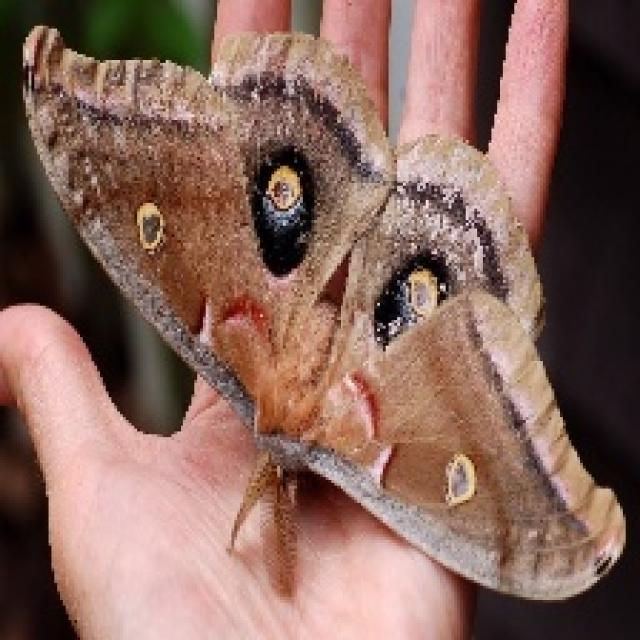butterfly: (17, 20, 626, 603)
